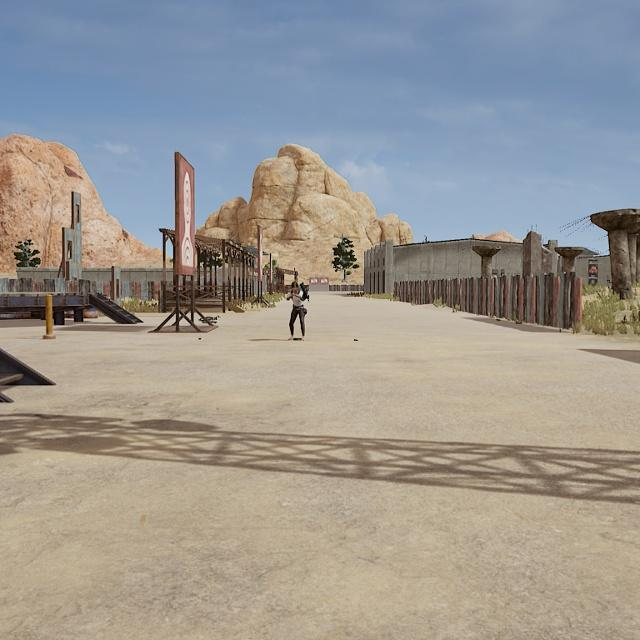head: (290, 281, 300, 293)
people: (285, 280, 308, 341)
